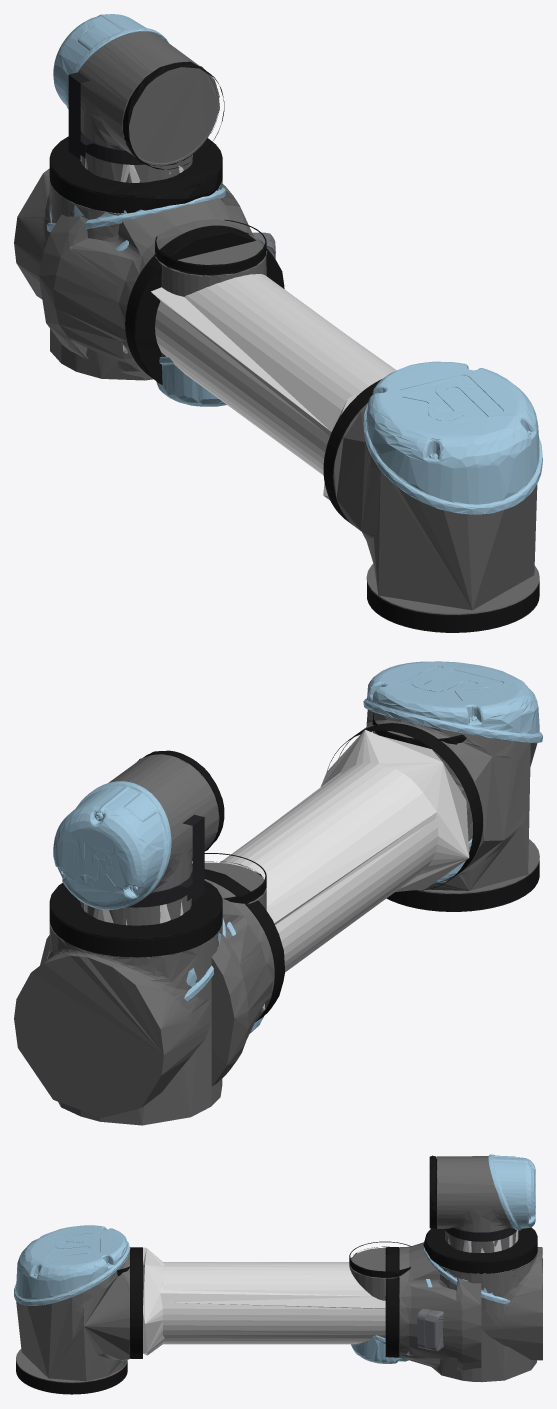
The model's file is arm.glb.
3 renders of one model, top to bottom at view 1: azimuth 30°, elevation 25°; view 2: azimuth 150°, elevation 25°; view 3: azimuth 270°, elevation 25°, orthographic. The views are drawn at different scales.
Visible parts, largest first — view 1: b3, b1, b5, b2, b6, b7; view 2: b3, b2, b5, b1, b7, b6, b4; view 3: b3, b5, b1, b2, b6, b9, b7.
Boxes of the visible parts, x1,y1,x2,y2 form: b3: (46,182,542,632); b1: (38,184,284,385); b5: (53,14,224,182); b2: (14,136,222,299); b6: (154,219,267,406); b7: (68,72,192,182); b3: (47,661,542,1125); b2: (14,881,236,1117); b5: (53,750,224,925); b1: (40,869,284,1086); b7: (80,814,204,925); b6: (204,853,266,1033); b4: (50,713,472,976); b3: (14,1225,536,1394); b5: (429,1154,535,1252); b1: (385,1242,481,1370); b2: (423,1227,542,1360); b6: (349,1241,410,1363); b9: (417,1308,443,1351); b7: (445,1227,518,1252).
Bounding box in the file's own units: 0.1552 × 0.2434 × 0.5484.
